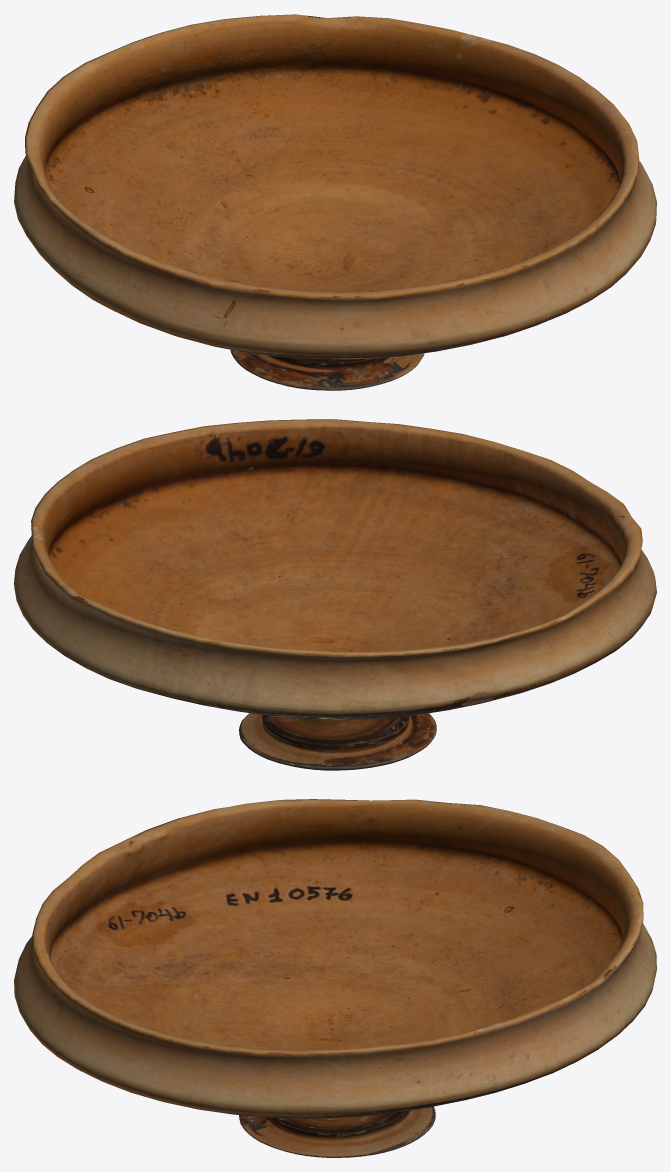
The model's file is Kottaboas_Bowl.fbx.
3 views of the same model, one above another, from view 1: azimuth 30°, elevation 25°; view 2: azimuth 150°, elevation 25°; view 3: azimuth 270°, elevation 25° (orthographic).
Visible parts, largest first — view 1: 61_704_Lekane_Low_Poly; view 2: 61_704_Lekane_Low_Poly; view 3: 61_704_Lekane_Low_Poly.
Boxes of the visible parts, x1,y1,x2,y2 form: 61_704_Lekane_Low_Poly: (14, 14, 656, 390); 61_704_Lekane_Low_Poly: (14, 419, 656, 770); 61_704_Lekane_Low_Poly: (14, 799, 656, 1157).
Bounding box in the file's own units: 2238 × 819 × 2249.
